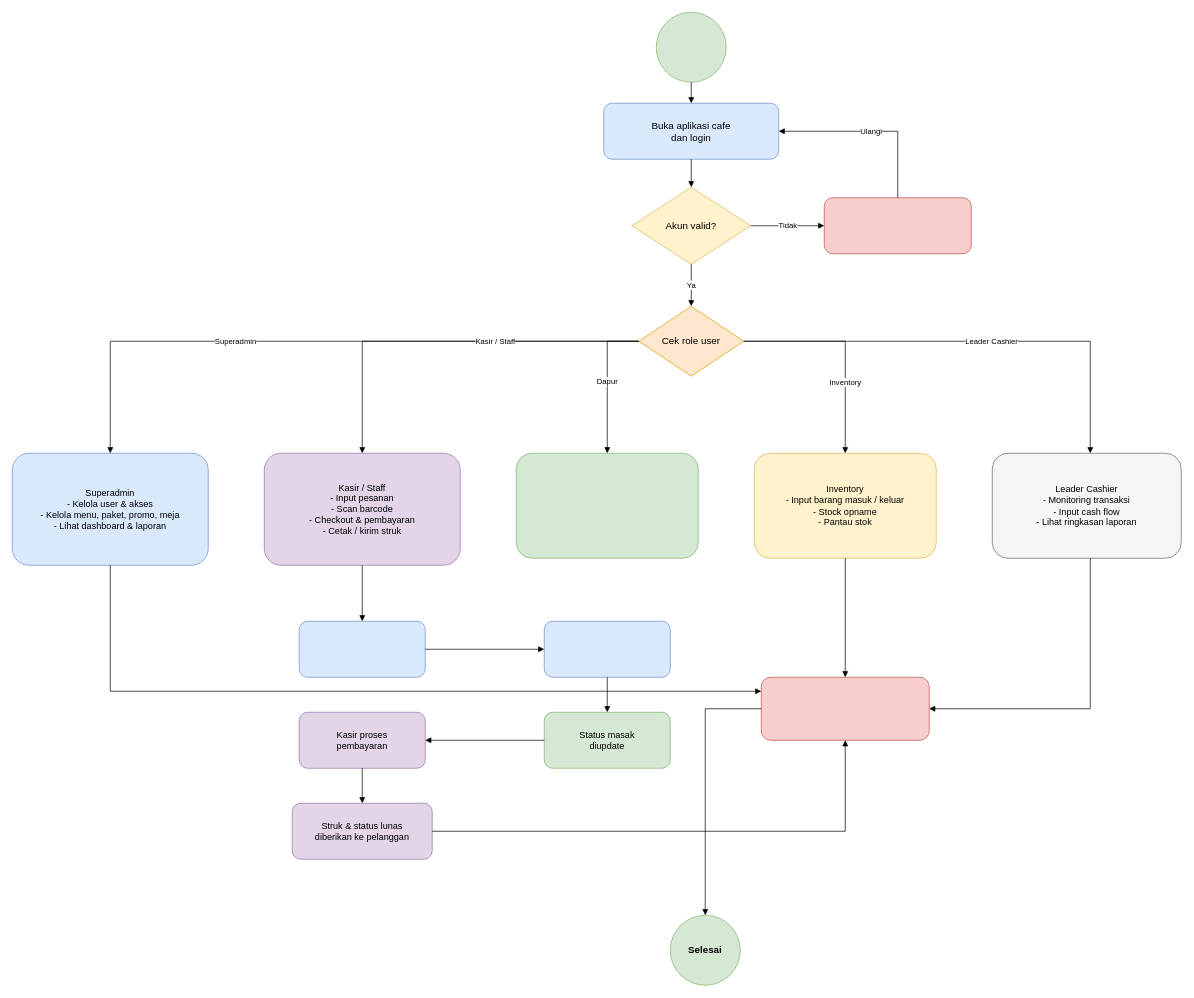
Some shapes in this 1194 by 998 pixel diagram are drawn without their labels. The centre of each missing label's shape, as x and y in pixels:
"Dapur - Lihat pesanan masuk - Ubah status proses masak - Tandai menu habis" belongs at pixel 607 505.
"Data transaksi, stok, cash flow jadi laporan" belongs at pixel 845 708.
"Kirim order ke dapur" belongs at pixel 607 649.
"Mulai" belongs at pixel 691 47.
"Pesanan pelanggan masuk ke sistem" belongs at pixel 362 649.
"Tampilkan pesan login gagal" belongs at pixel 897 225.
